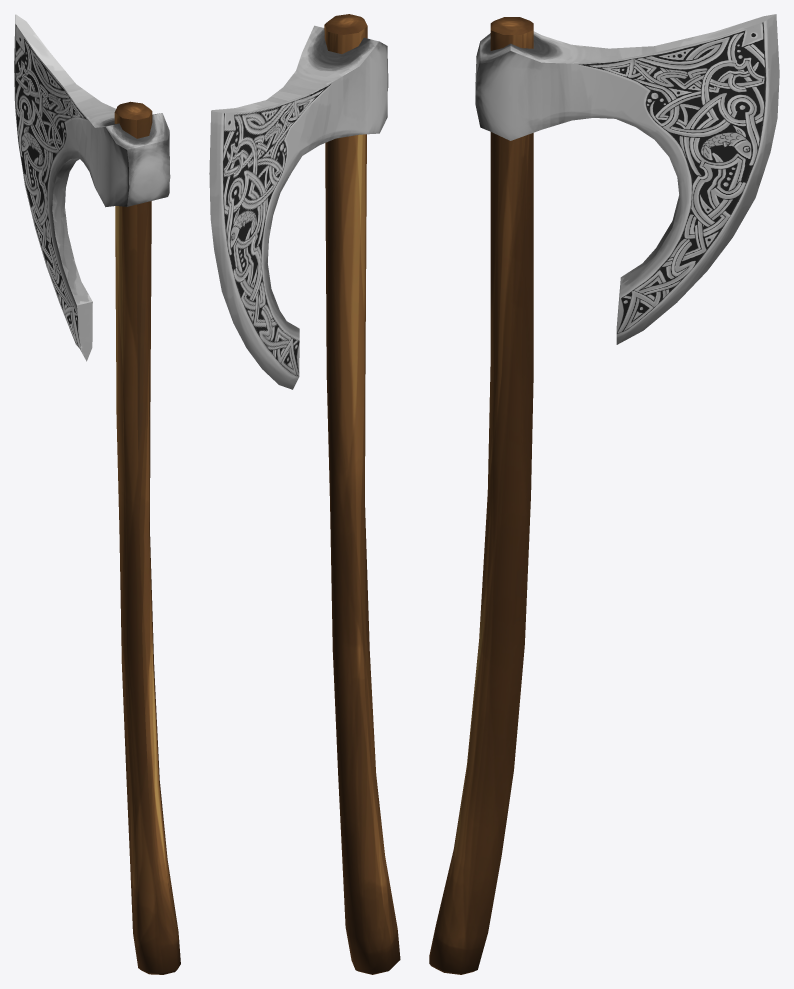
Rendered from Nordische_Handaxt.FBX.
3 views of the same model, side by side, from view 1: azimuth 30°, elevation 25°; view 2: azimuth 150°, elevation 25°; view 3: azimuth 270°, elevation 25° (orthographic). The views are drawn at different scales.
Visible parts, largest first — view 1: Line001; view 2: Line001; view 3: Line001.
Part boxes in pixels (x1,y1,x2,y2): Line001: (14, 14, 180, 974); Line001: (209, 14, 400, 974); Line001: (429, 14, 779, 974).
Bounding box in the file's own units: 4.92 × 70.08 × 23.32.
